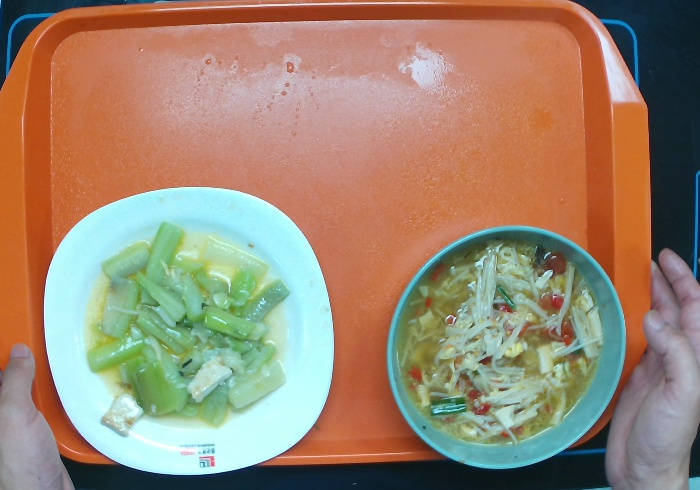ZNLD-Qing_Hua_Yuan_Wan: (384, 223, 628, 470)
ZNLD-Yuan_Jiao_Pan: (41, 183, 336, 475)
